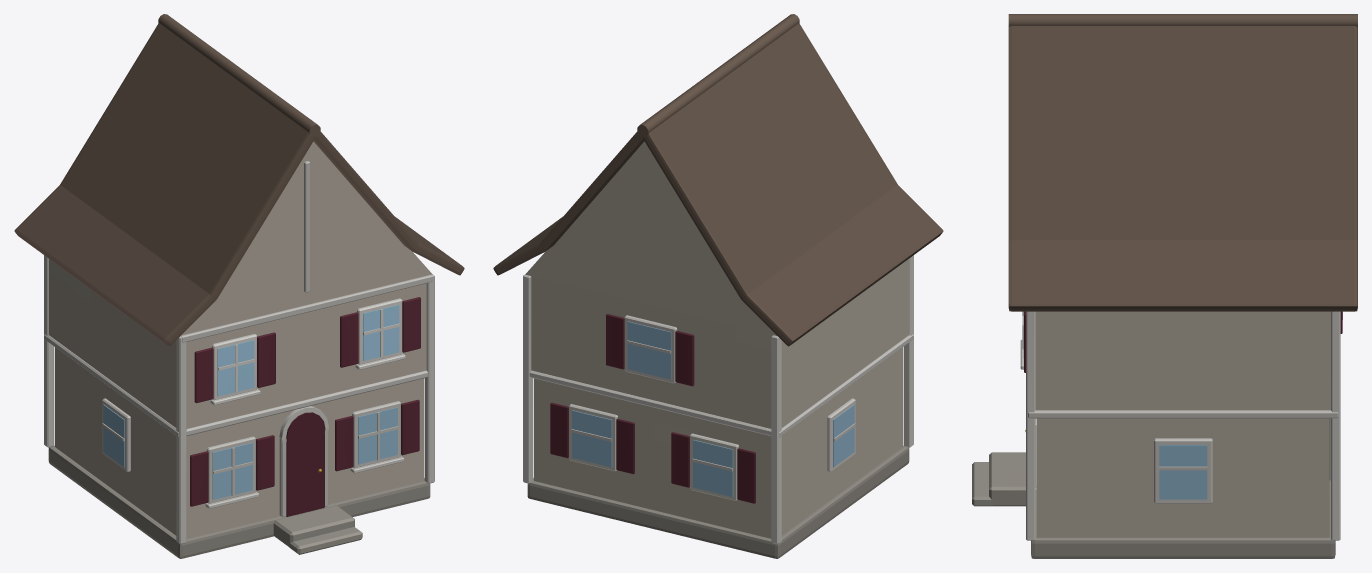
The model's file is cottage-1.glb.
The picture shows the model from 3 angles, left to right: view 1: azimuth 30°, elevation 25°; view 2: azimuth 150°, elevation 25°; view 3: azimuth 270°, elevation 25°; orthographic projection. The views are drawn at different scales.
Visible parts, largest first — view 1: cottage-1; view 2: cottage-1; view 3: cottage-1.
Boxes of the visible parts, x1,y1,x2,y2 form: cottage-1: [14, 14, 464, 558]; cottage-1: [493, 14, 943, 558]; cottage-1: [972, 14, 1357, 558].
Size of the model in its own units: 8.29 by 10.86 by 8.
